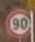limite 90: (4, 8, 32, 37)
